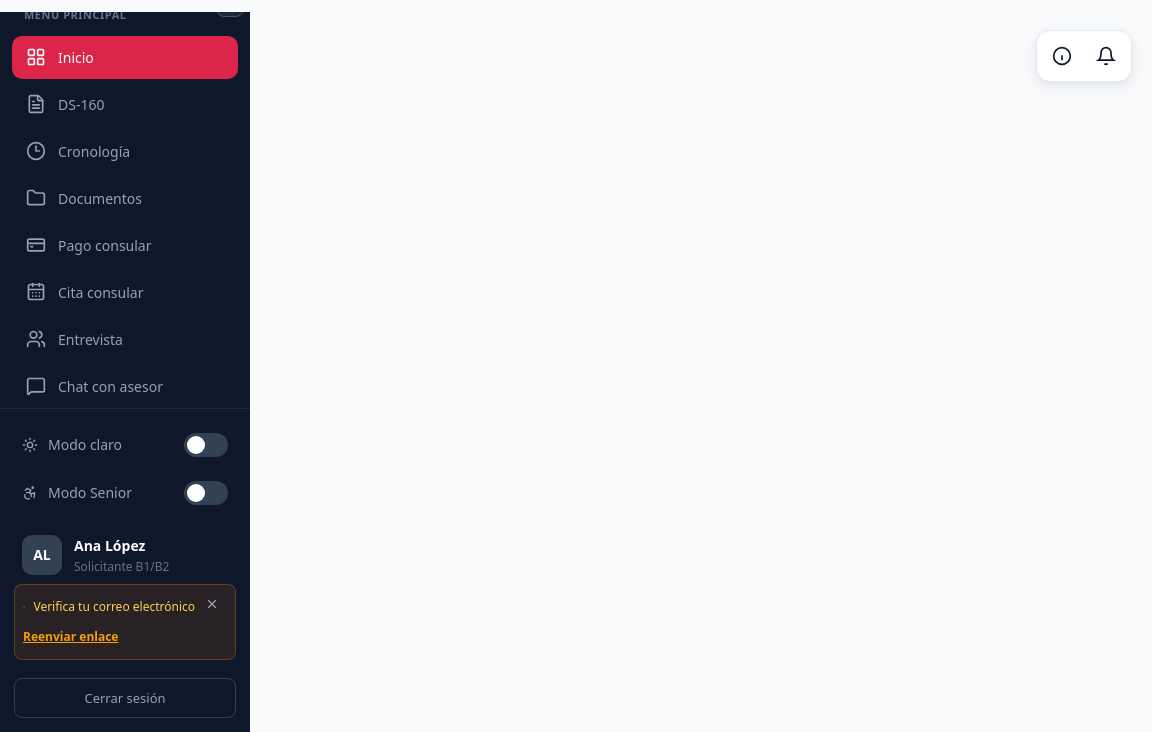
Sidebar › muestra el aviso de verificación y permite reenviar el enlace
(page scrolled)
Check: the text "Verifica tu correo electrónico" is shown, box [33,598,195,616]
Click the button "Reenviar enlace": (71,636) [23,624,118,648]
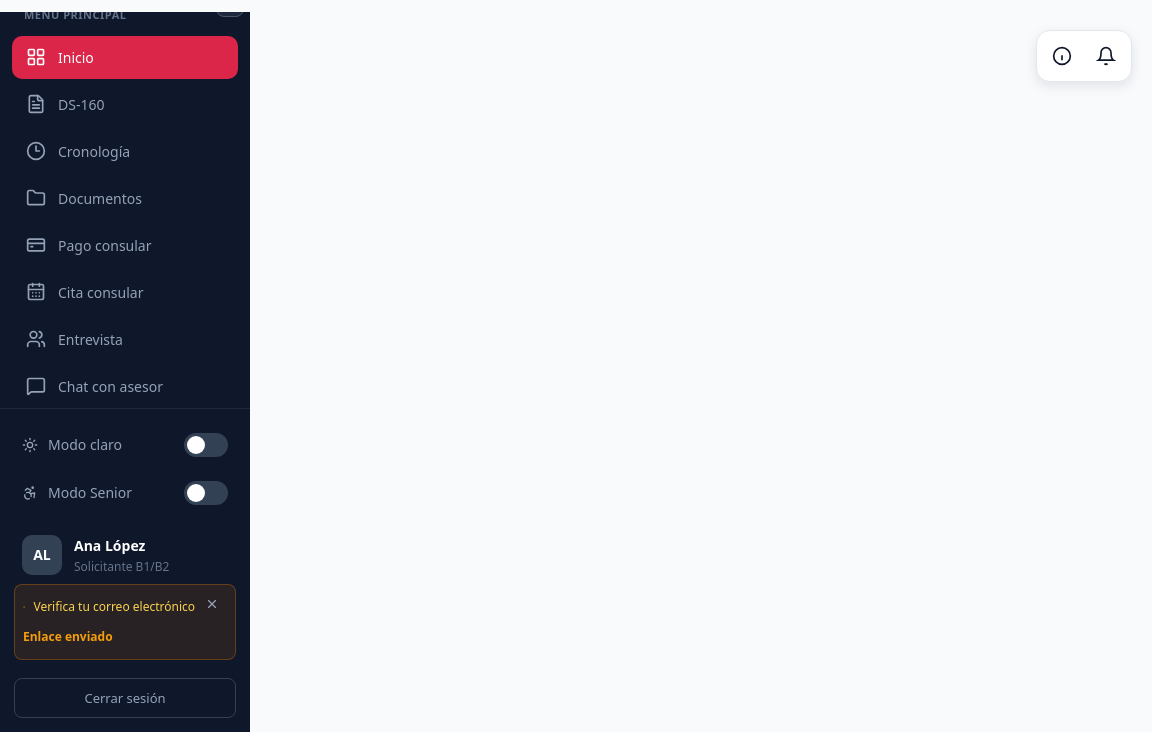
Check: the button "Enlace enviado" is shown, box [23,624,113,648]
